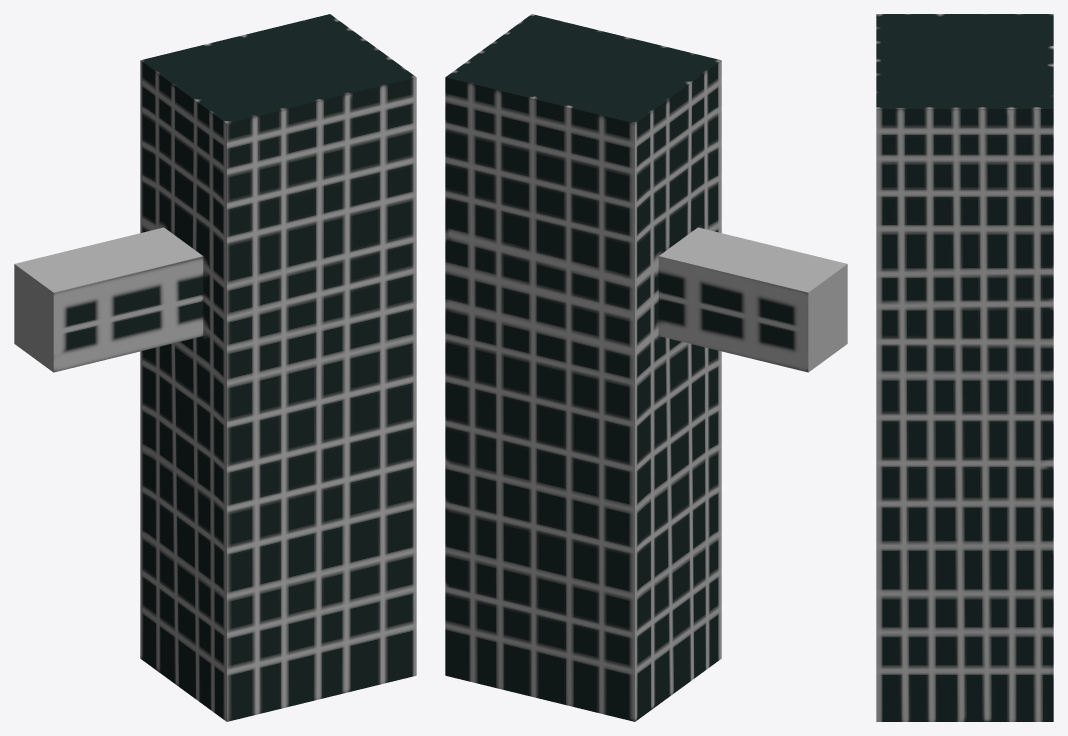
Rendered from centraltower2.fbx.
The picture shows the model from 3 angles, left to right: view 1: azimuth 30°, elevation 25°; view 2: azimuth 150°, elevation 25°; view 3: azimuth 270°, elevation 25°; orthographic projection. The views are drawn at different scales.
Visible parts, largest first — view 1: polySurface2; view 2: polySurface2; view 3: polySurface2.
Part boxes in pixels (x1,y1,x2,y2): polySurface2: [14, 14, 416, 721]; polySurface2: [445, 14, 847, 721]; polySurface2: [876, 14, 1053, 721].
Bounding box in the file's own units: 25.3 × 42.62 × 11.17.
1 material, 1 textured.
